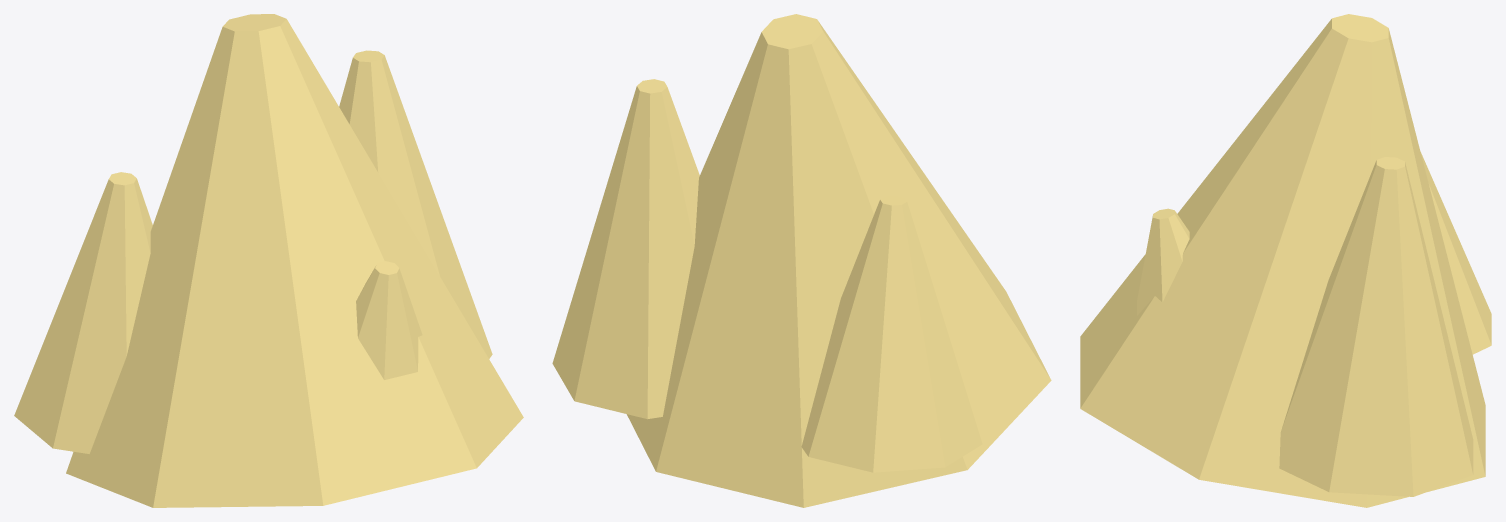
The model's file is prop_sconce_flame.glb.
3 renders of one model, left to right at view 1: azimuth 30°, elevation 25°; view 2: azimuth 150°, elevation 25°; view 3: azimuth 270°, elevation 25°, orthographic. The views are drawn at different scales.
Parts seen in each view (by area): view 1: prop_sconce_flame; view 2: prop_sconce_flame; view 3: prop_sconce_flame.
Boxes of the visible parts, x1,y1,x2,y2 form: prop_sconce_flame: [14, 14, 523, 507]; prop_sconce_flame: [552, 14, 1051, 507]; prop_sconce_flame: [1080, 14, 1491, 507].
Size of the model in its own units: 0.2205 by 0.2168 by 0.1937.
